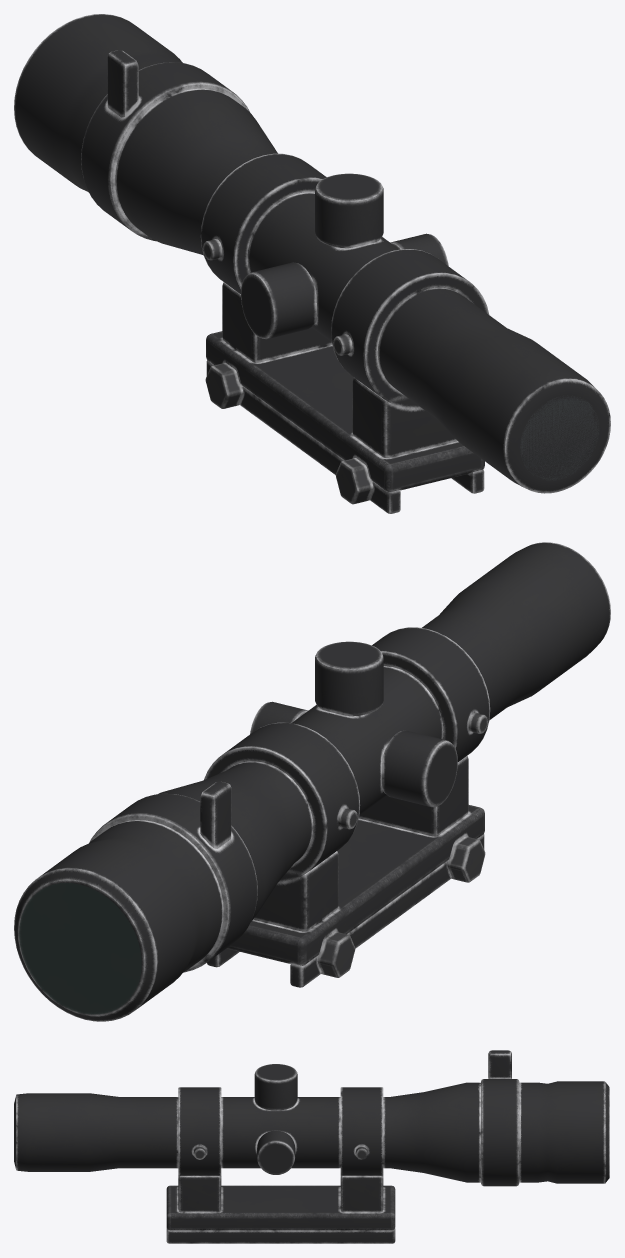
The model's file is lpvo.glb.
3 views of the same model, one above another, from view 1: azimuth 30°, elevation 25°; view 2: azimuth 150°, elevation 25°; view 3: azimuth 270°, elevation 25° (orthographic). The views are drawn at different scales.
Parts seen in each view (by area): view 1: body, lens_front; view 2: body, lens_pip; view 3: body.
Boxes of the visible parts, x1=… form: body: x1=14, y1=14, x2=610, y2=513; lens_front: x1=520, y1=396, x2=598, y2=479; body: x1=14, y1=542, x2=610, y2=1021; lens_pip: x1=19, y1=883, x2=141, y2=1014; body: x1=14, y1=1050, x2=609, y2=1243.
Size of the model in its own units: 0.054 by 0.0762 by 0.2505.
Materials: 3 (1 with a texture image).
